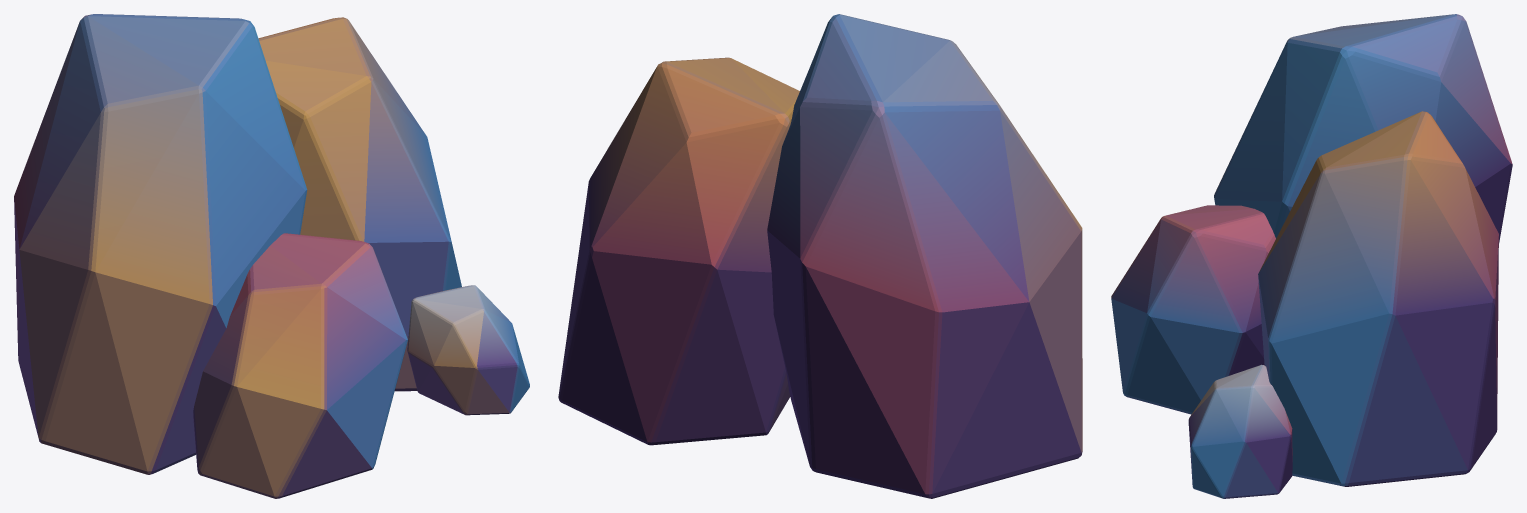
File: Fusionstone_Vein.glb
The picture shows the model from 3 angles, left to right: view 1: azimuth 30°, elevation 25°; view 2: azimuth 150°, elevation 25°; view 3: azimuth 270°, elevation 25°; orthographic projection. The views are drawn at different scales.
Visible parts, largest first — view 1: Fusionstone_Vein; view 2: Fusionstone_Vein; view 3: Fusionstone_Vein.
Boxes of the visible parts, x1,y1,x2,y2 form: Fusionstone_Vein: [14, 14, 529, 498]; Fusionstone_Vein: [558, 14, 1082, 498]; Fusionstone_Vein: [1111, 14, 1512, 498].
Bounding box in the file's own units: 3.02 × 2.49 × 2.53.
